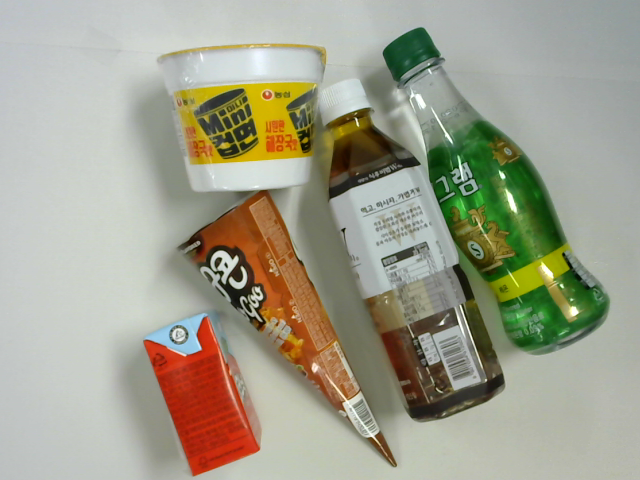GooGoo_Cone_CVS: (170, 191, 399, 474)
Hejangmini: (159, 43, 339, 193)
Picnic_Apple: (147, 316, 269, 469)
Post-meal_recipe_W_tea_500ml: (311, 76, 510, 431)
Seagram_Lemon_Carbonated_Water: (381, 21, 609, 358)
